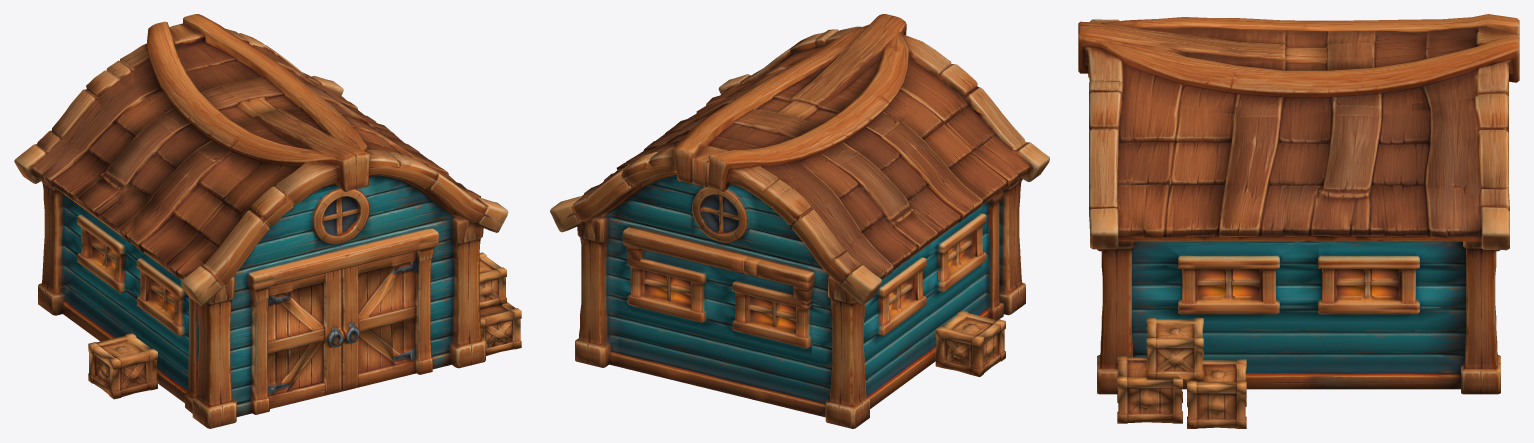
The model's file is dock_warehouse.glb.
3 renders of one model, left to right at view 1: azimuth 30°, elevation 25°; view 2: azimuth 150°, elevation 25°; view 3: azimuth 270°, elevation 25°, orthographic. The views are drawn at different scales.
Visible parts, largest first — view 1: tripo_node_8a6d3ee8-0b57-40b6-9d26-7599e0c1a8bc; view 2: tripo_node_8a6d3ee8-0b57-40b6-9d26-7599e0c1a8bc; view 3: tripo_node_8a6d3ee8-0b57-40b6-9d26-7599e0c1a8bc.
Part boxes in pixels (x1,y1,x2,y2): tripo_node_8a6d3ee8-0b57-40b6-9d26-7599e0c1a8bc: [14, 14, 521, 428]; tripo_node_8a6d3ee8-0b57-40b6-9d26-7599e0c1a8bc: [550, 14, 1049, 428]; tripo_node_8a6d3ee8-0b57-40b6-9d26-7599e0c1a8bc: [1078, 14, 1519, 428].
Size of the model in its own units: 0.9783 by 0.6337 by 0.8635.
1 material, 1 textured.
